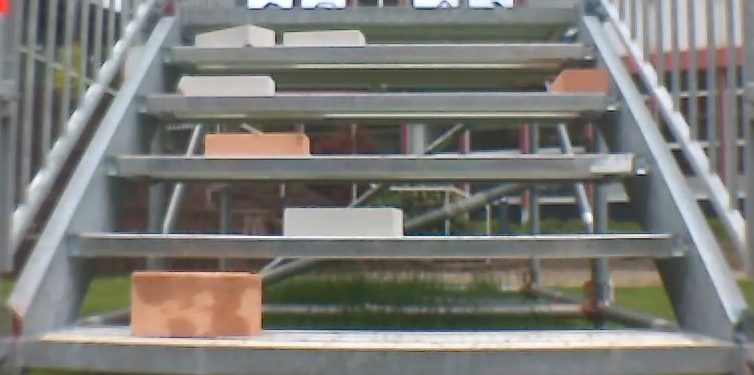brick: (128, 273, 264, 339), (283, 205, 407, 235), (203, 130, 312, 156), (177, 75, 275, 97), (193, 27, 276, 50), (544, 68, 614, 94), (281, 30, 365, 50)
edge: (19, 344, 737, 370), (63, 231, 691, 259), (100, 151, 652, 177), (133, 93, 621, 113), (156, 43, 599, 65), (177, 8, 576, 25)
steps: (12, 7, 744, 368)
